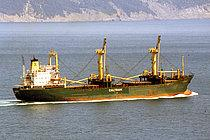Ship: (10, 33, 198, 108)
